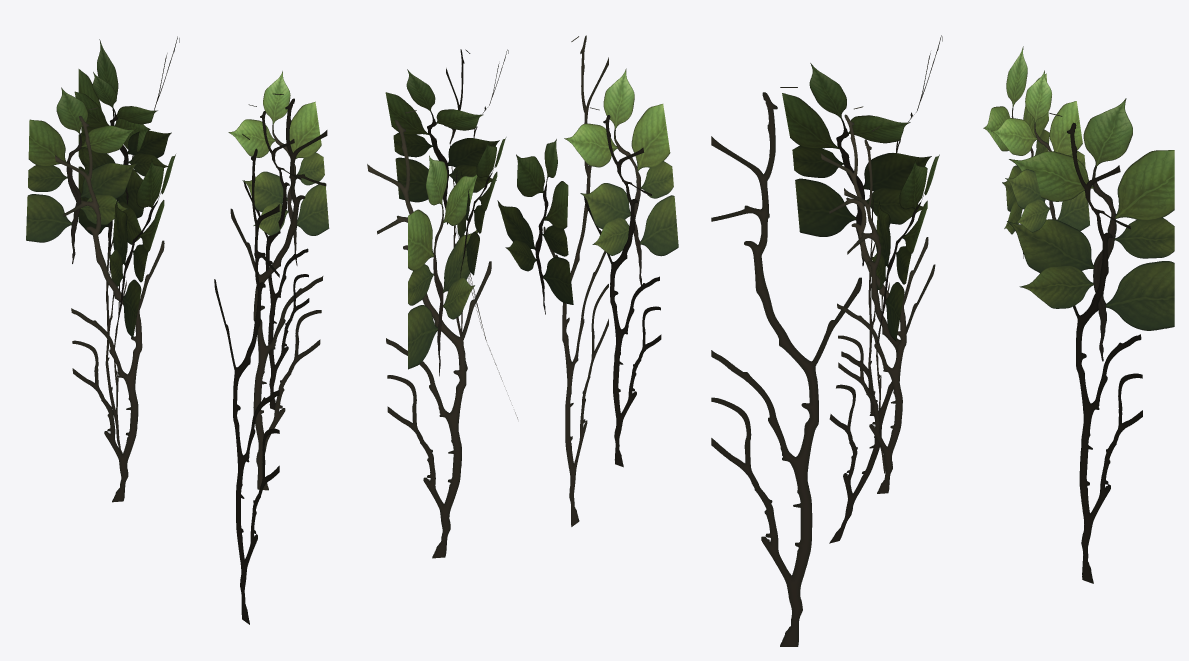
File: Leafs_Hanging_01.FBX
The picture shows the model from 3 angles, left to right: view 1: azimuth 30°, elevation 25°; view 2: azimuth 150°, elevation 25°; view 3: azimuth 270°, elevation 25°; orthographic projection. The views are drawn at different scales.
Parts seen in each view (by area): view 1: Leafs_Hanging_01; view 2: Leafs_Hanging_01; view 3: Leafs_Hanging_01.
Part boxes in pixels (box(x1,y1,x2,y2)): Leafs_Hanging_01: box(26, 36, 329, 624); Leafs_Hanging_01: box(367, 35, 678, 558); Leafs_Hanging_01: box(711, 35, 1174, 646).
Bounding box in the file's own units: 3.03 × 5.16 × 3.85.
1 material, 1 textured.
